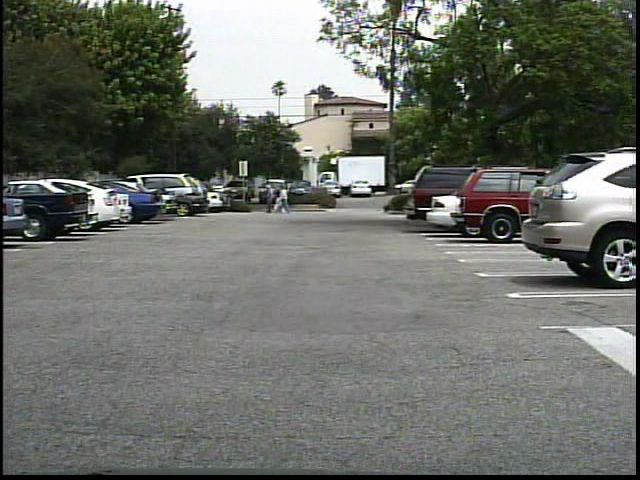person: (262, 184, 278, 216), (274, 185, 288, 216), (279, 186, 293, 217)
